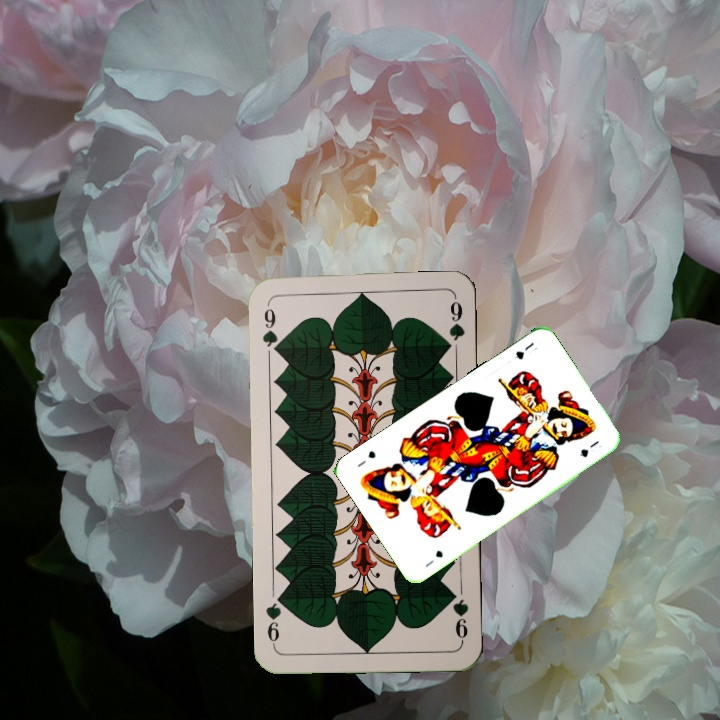G9: (446, 586, 471, 645), (258, 299, 282, 358)
GU: (511, 338, 537, 362), (421, 546, 446, 570)
